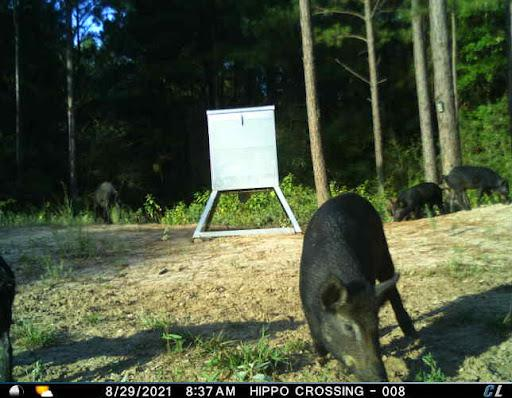Hog: (296, 190, 422, 383), (443, 163, 512, 210), (395, 181, 444, 224), (88, 179, 123, 229)
